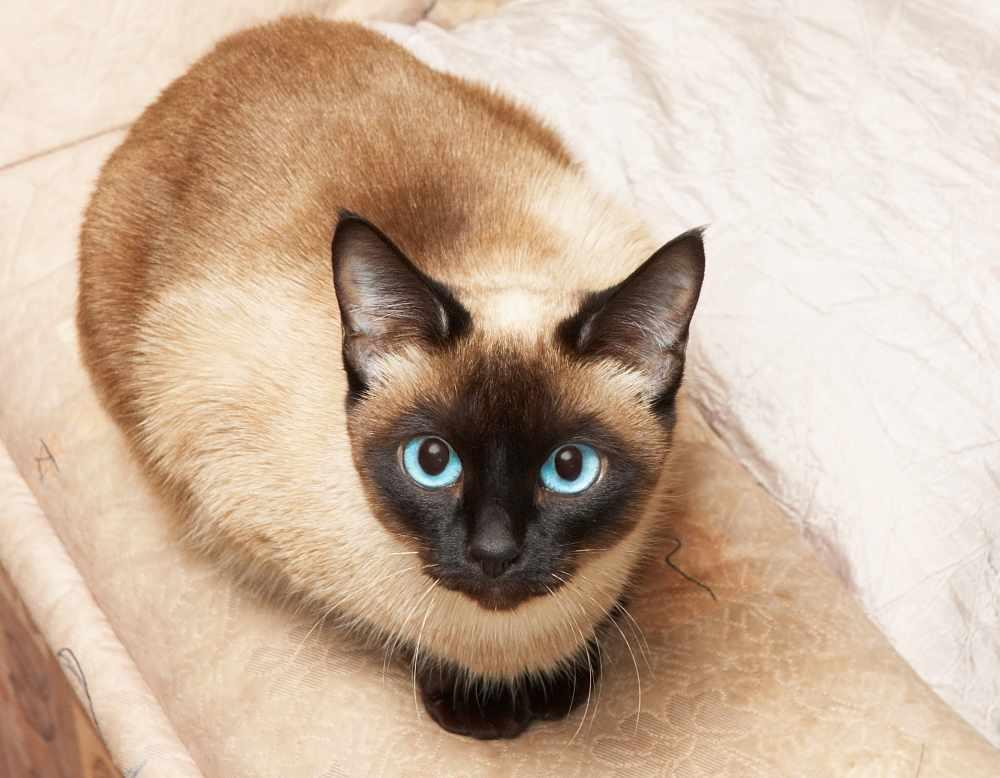siamese: (318, 195, 742, 621)
